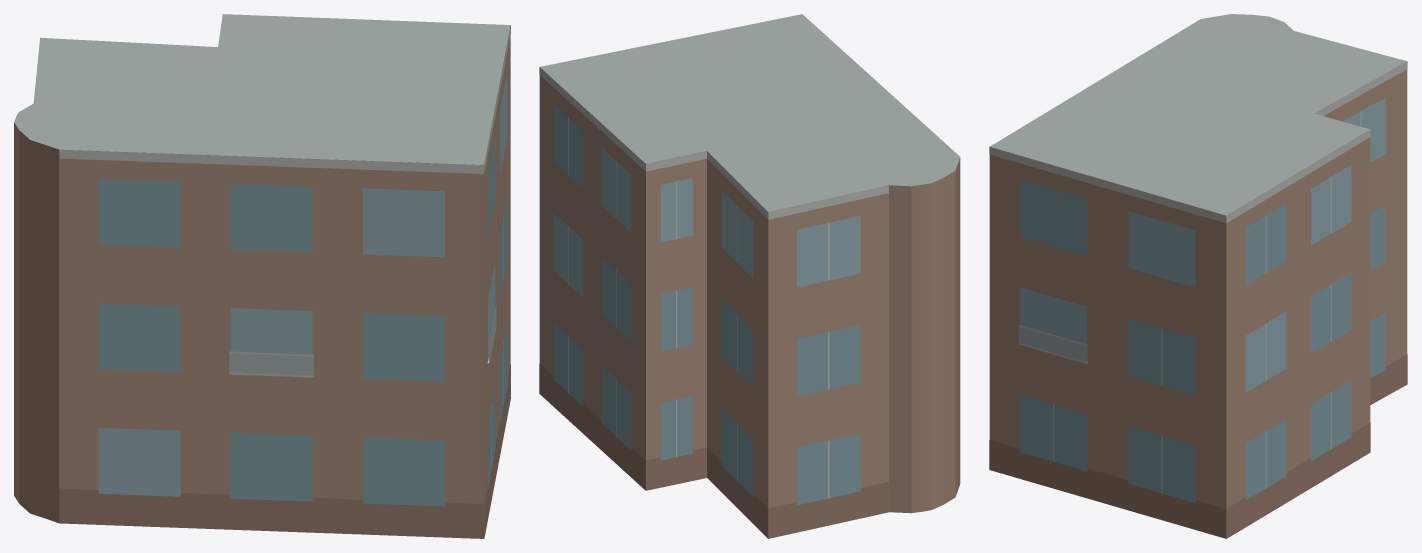
The model's file is survey-upis-32923675.glb.
The picture shows the model from 3 angles, left to right: view 1: azimuth 30°, elevation 25°; view 2: azimuth 150°, elevation 25°; view 3: azimuth 270°, elevation 25°; orthographic projection. The views are drawn at different scales.
Visible parts, largest first — view 1: survey-upis-32923675.tmp; view 2: survey-upis-32923675.tmp; view 3: survey-upis-32923675.tmp.
Part boxes in pixels (<box>): survey-upis-32923675.tmp: <box>14,14,510,538</box>; survey-upis-32923675.tmp: <box>539,14,960,538</box>; survey-upis-32923675.tmp: <box>989,14,1407,538</box>.
Bounding box in the file's own units: 13.66 × 10.2 × 11.96.
